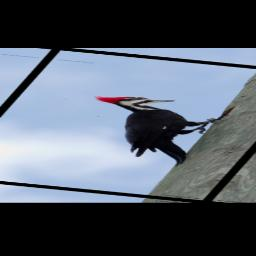Woodpecker: (44, 93, 240, 167)
